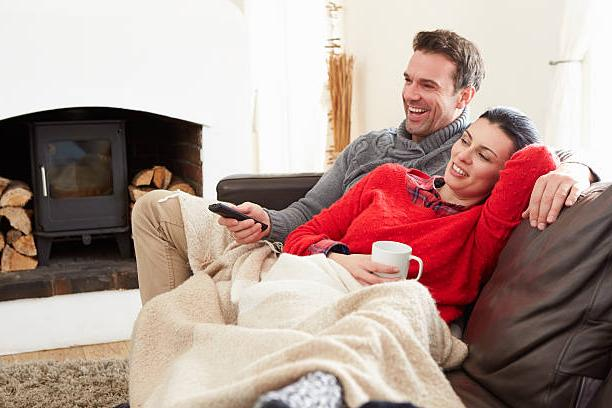blanket: (127, 188, 469, 408), (130, 189, 187, 309)
sweater: (280, 142, 559, 324), (265, 105, 600, 248)
